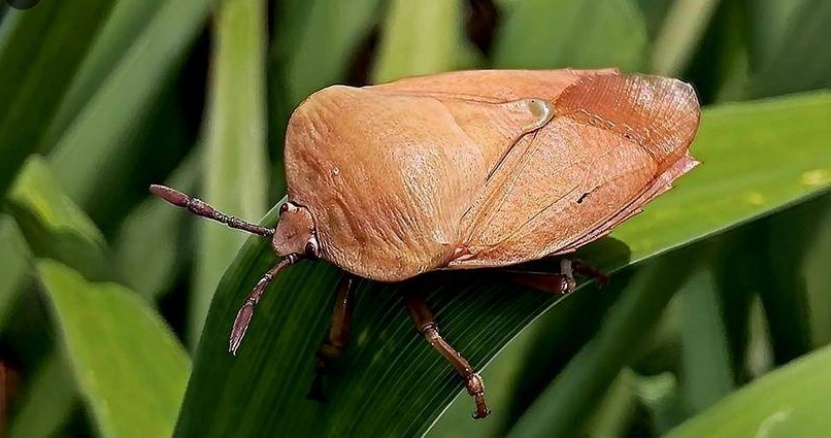Stink_Bug: (164, 61, 696, 332)
